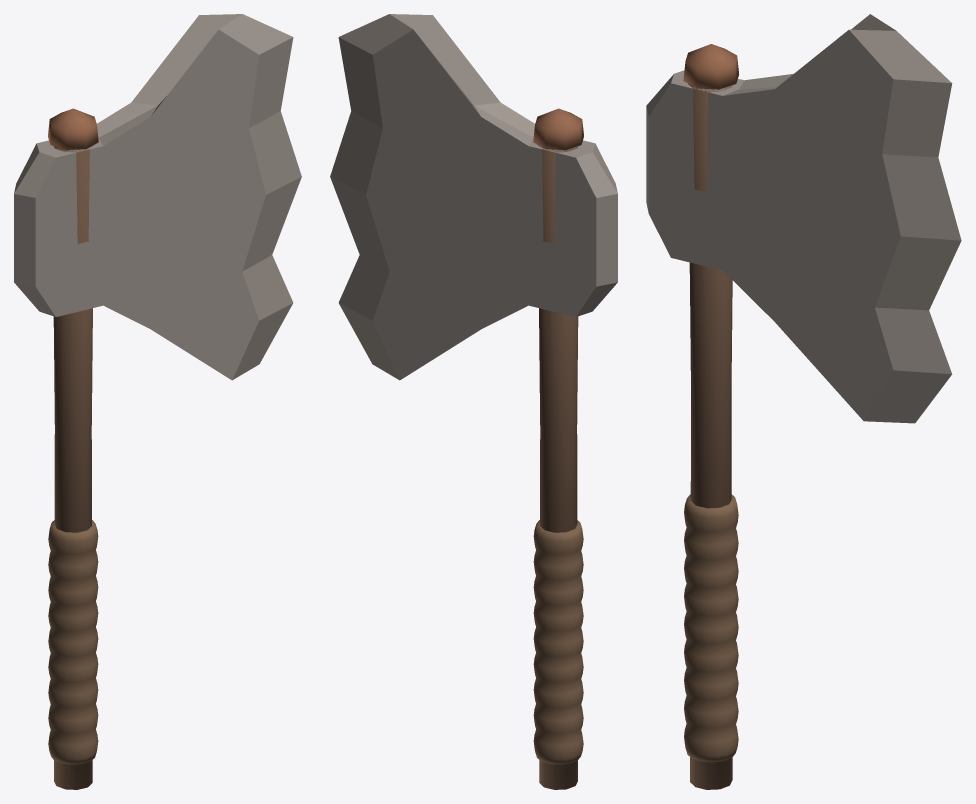
File: koloss_axe.glb
3 views of the same model, side by side, from view 1: azimuth 30°, elevation 25°; view 2: azimuth 150°, elevation 25°; view 3: azimuth 330°, elevation 25° (orthographic). The views are drawn at different scales.
Parts seen in each view (by area): view 1: koloss_axe_head, koloss_axe_grip, koloss_axe_haft, koloss_axe_cap; view 2: koloss_axe_head, koloss_axe_grip, koloss_axe_haft, koloss_axe_cap; view 3: koloss_axe_head, koloss_axe_grip, koloss_axe_haft, koloss_axe_cap.
Part boxes in pixels (x1,y1,x2,y2): koloss_axe_head: [14, 14, 301, 380]; koloss_axe_grip: [48, 520, 98, 764]; koloss_axe_haft: [53, 146, 92, 789]; koloss_axe_cap: [48, 108, 98, 150]; koloss_axe_head: [330, 14, 617, 380]; koloss_axe_grip: [533, 520, 583, 764]; koloss_axe_haft: [538, 145, 578, 789]; koloss_axe_cap: [533, 108, 583, 150]; koloss_axe_head: [646, 14, 961, 423]; koloss_axe_grip: [684, 494, 738, 762]; koloss_axe_haft: [688, 83, 732, 789]; koloss_axe_cap: [683, 44, 738, 89].
Size of the model in its own units: 0.34 by 0.82 by 0.054.
